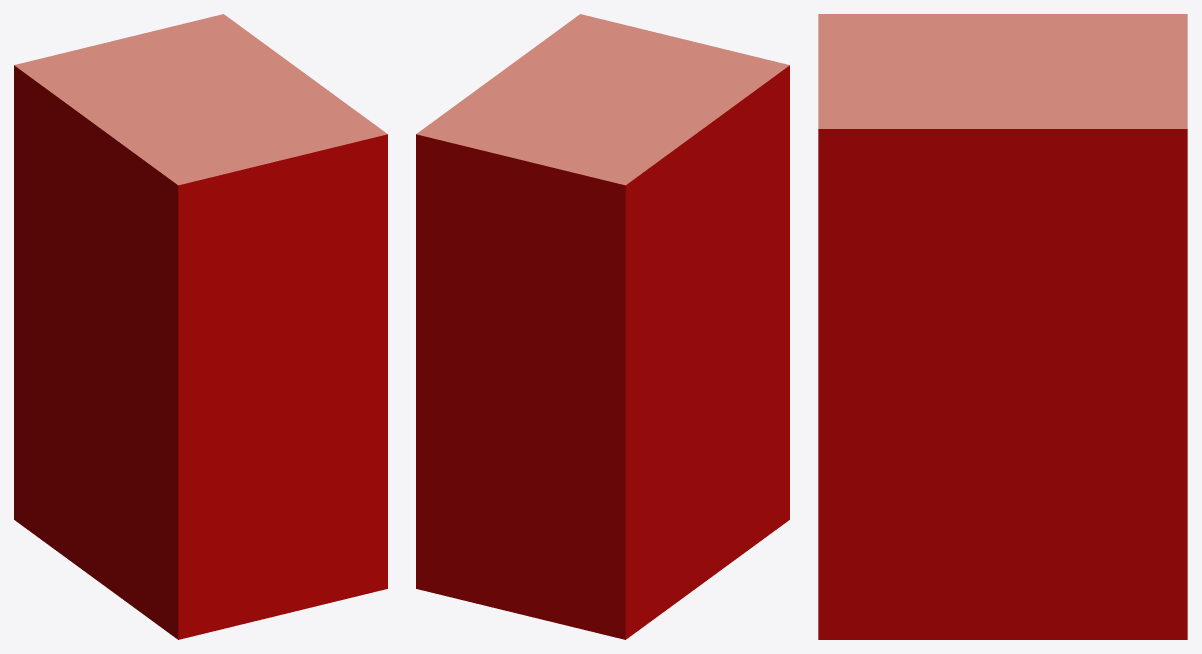
File: hallonsoppa.dae
3 renders of one model, left to right at view 1: azimuth 30°, elevation 25°; view 2: azimuth 150°, elevation 25°; view 3: azimuth 270°, elevation 25°, orthographic. The views are drawn at different scales.
Parts seen in each view (by area): view 1: hallonsoppa; view 2: hallonsoppa; view 3: hallonsoppa.
Part boxes in pixels (left/top/right/bottom): hallonsoppa: left=14, top=14, right=387, bottom=639; hallonsoppa: left=416, top=14, right=789, bottom=639; hallonsoppa: left=818, top=14, right=1187, bottom=639.
Bounding box in the file's own units: 140 × 190 × 290.
